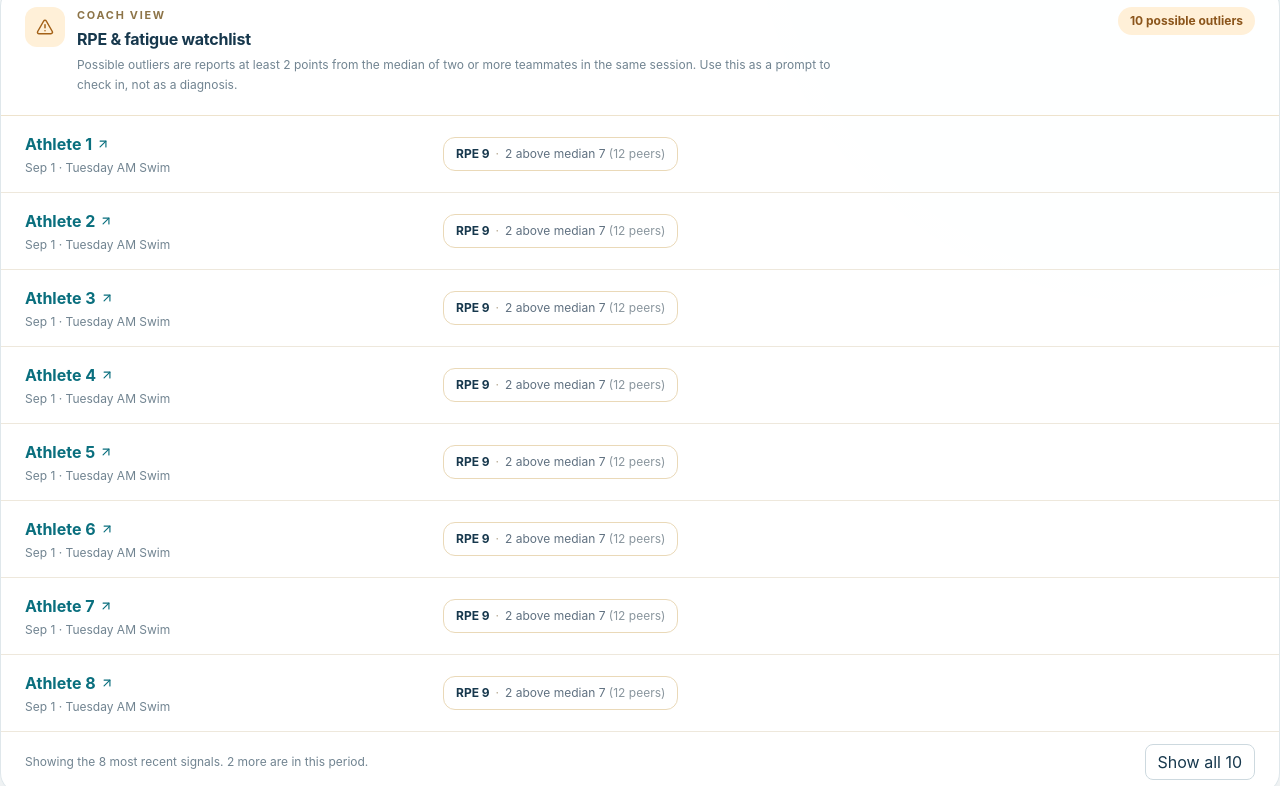
Test: EffortOutlierWatchlist › expands all signals and can return to the compact eight-item view
Expected: the link "Athlete 8" is shown, [25,671,114,695]
Expected: the text "Athlete 9" is not shown
Click the button "Show all 10". click: (1200,762)
box: [1144,744,1255,780]
(page scrolled)
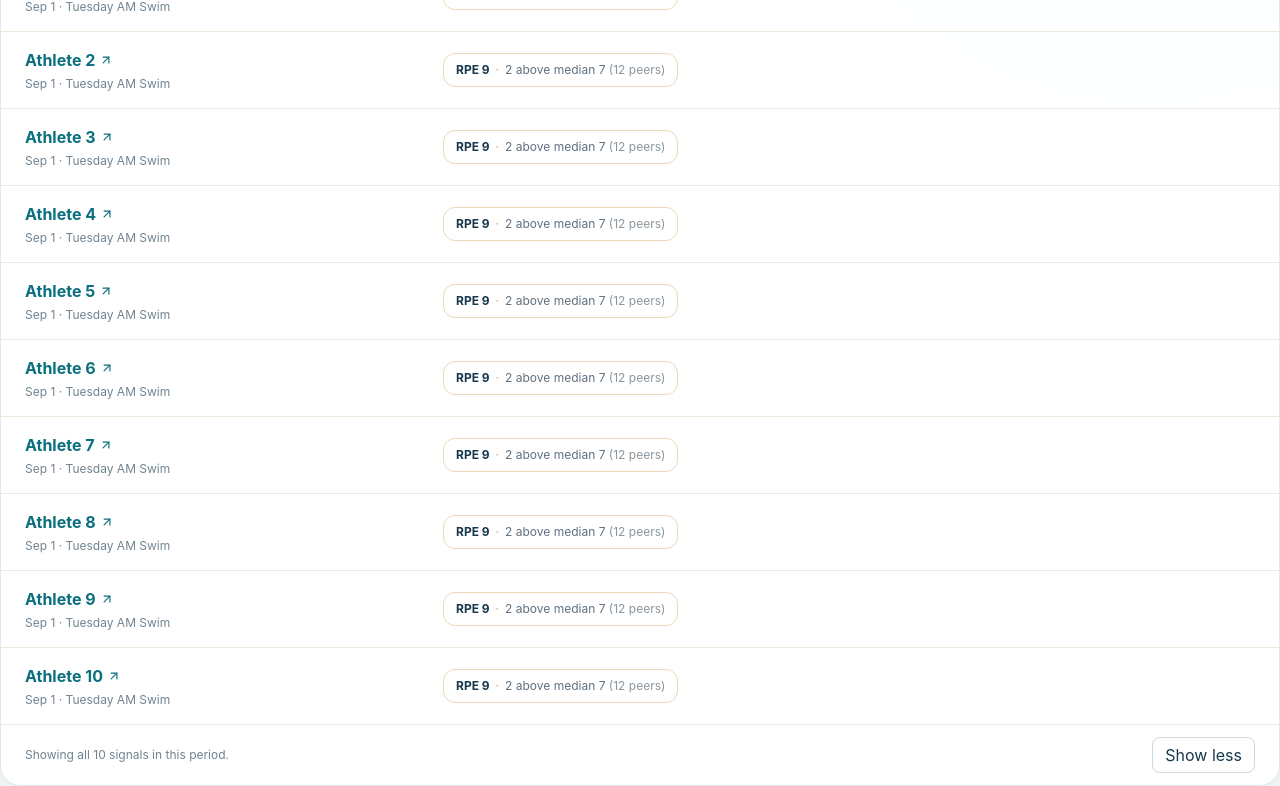
Expected: the link "Athlete 9" is shown, [25,587,114,611]
Expected: the link "Athlete 10" is shown, [25,664,121,688]
Click the button "Show less". click: (1204,755)
box: [1152,737,1255,773]
(page scrolled)
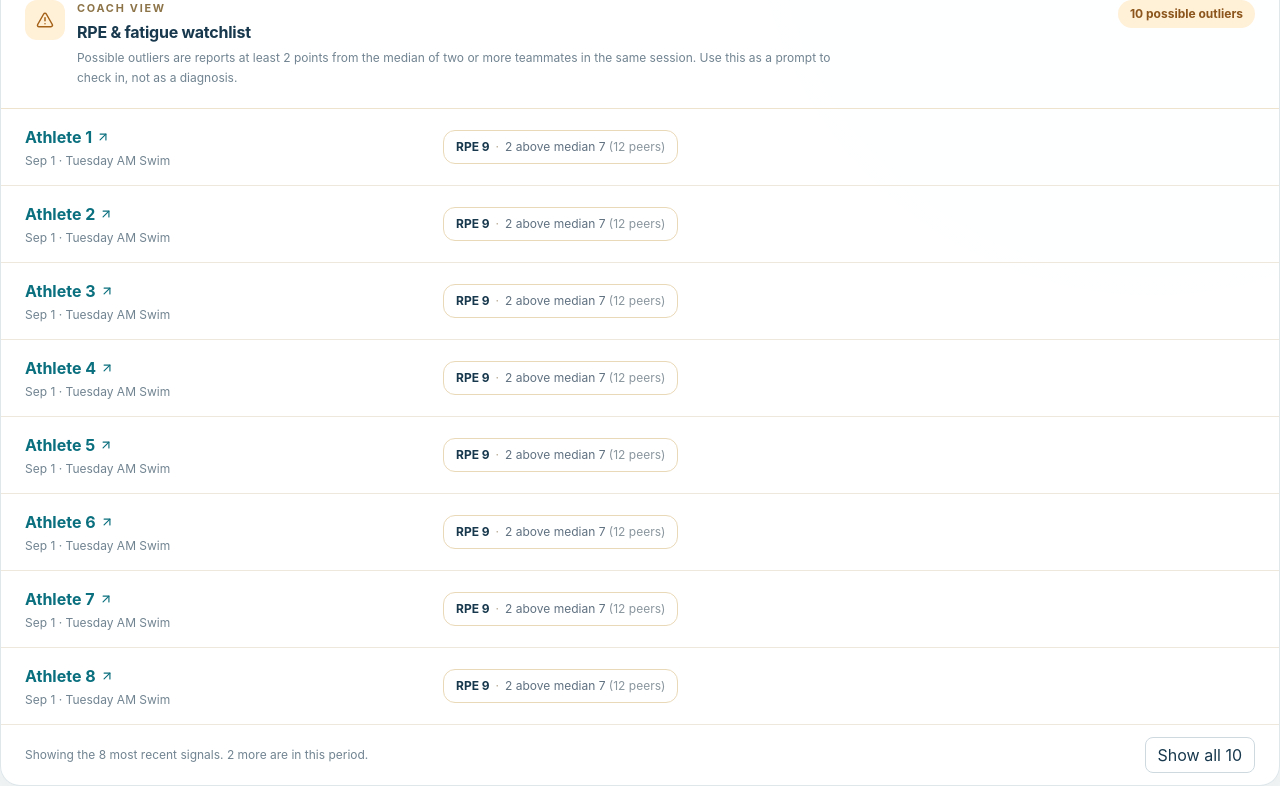
Expected: the link "Athlete 9" is gone
